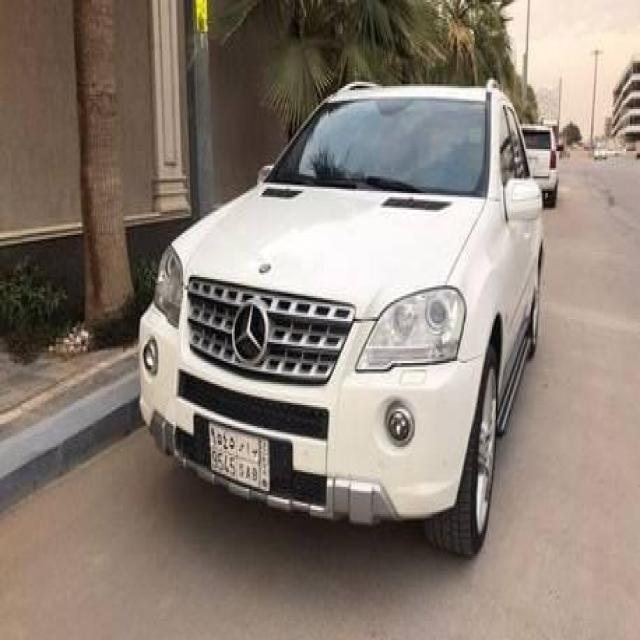license_plate: (198, 405, 277, 501)
